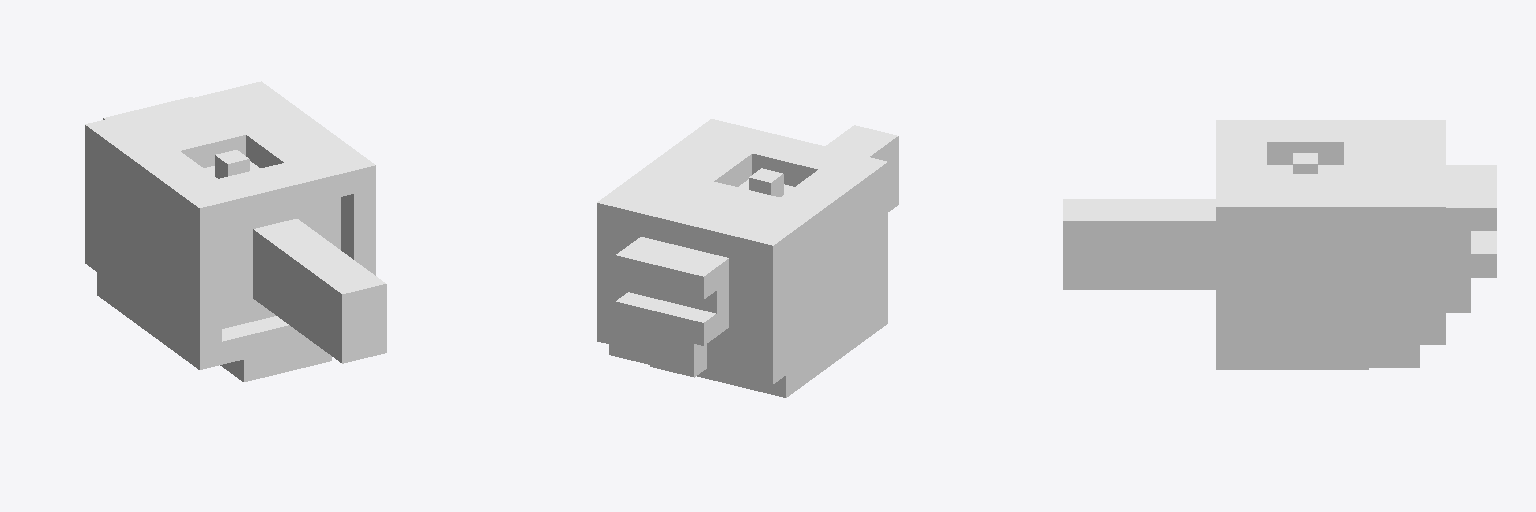
The model's file is enemy_t_turret.obj.
3 views of the same model, side by side, from view 1: azimuth 30°, elevation 25°; view 2: azimuth 150°, elevation 25°; view 3: azimuth 270°, elevation 25° (orthographic).
Parts seen in each view (by area): view 1: object 1; view 2: object 1; view 3: object 1.
Part boxes in pixels (bbox=[...]): object 1: bbox=[85, 81, 386, 381]; object 1: bbox=[597, 119, 898, 397]; object 1: bbox=[1063, 120, 1496, 369].
Bounding box in the file's own units: 0.8 × 0.8 × 1.7.